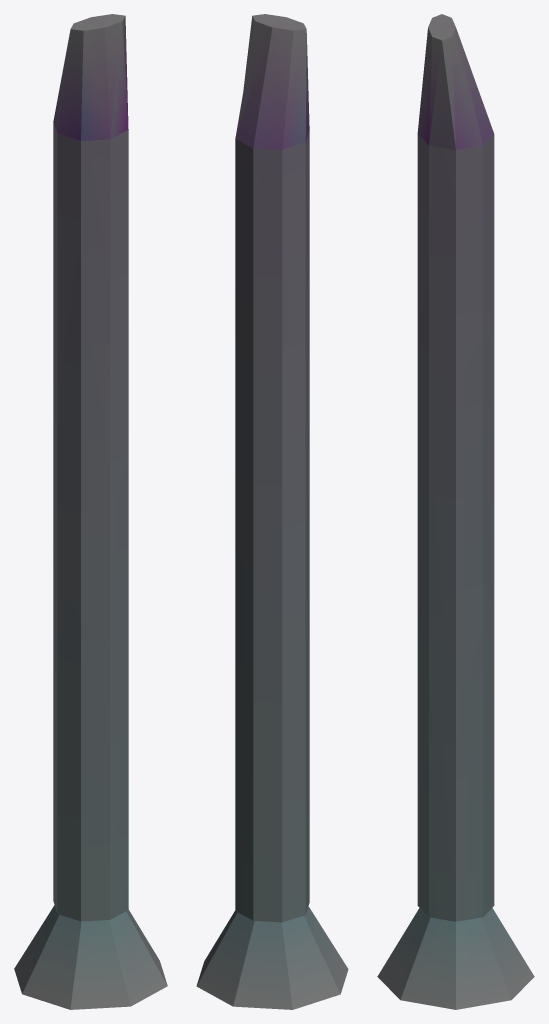
The picture shows the model from 3 angles, left to right: view 1: azimuth 30°, elevation 25°; view 2: azimuth 150°, elevation 25°; view 3: azimuth 270°, elevation 25°; orthographic projection.
Parts seen in each view (by area): view 1: stem, foot; view 2: stem, foot; view 3: stem, foot.
Boxes of the visible parts, x1,y1,x2,y2 form: stem: (53,14,128,921); foot: (14,905,167,1009); stem: (235,14,309,922); foot: (196,906,348,1009); stem: (417,14,494,921); foot: (377,908,534,1009).
Size of the model in its own units: 0.0901 by 0.6 by 0.0901.
